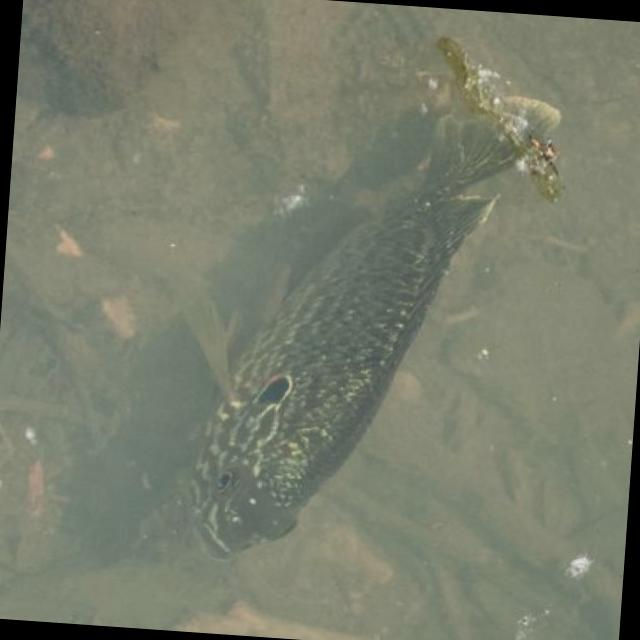Gunes Levregi: (168, 63, 566, 586)
